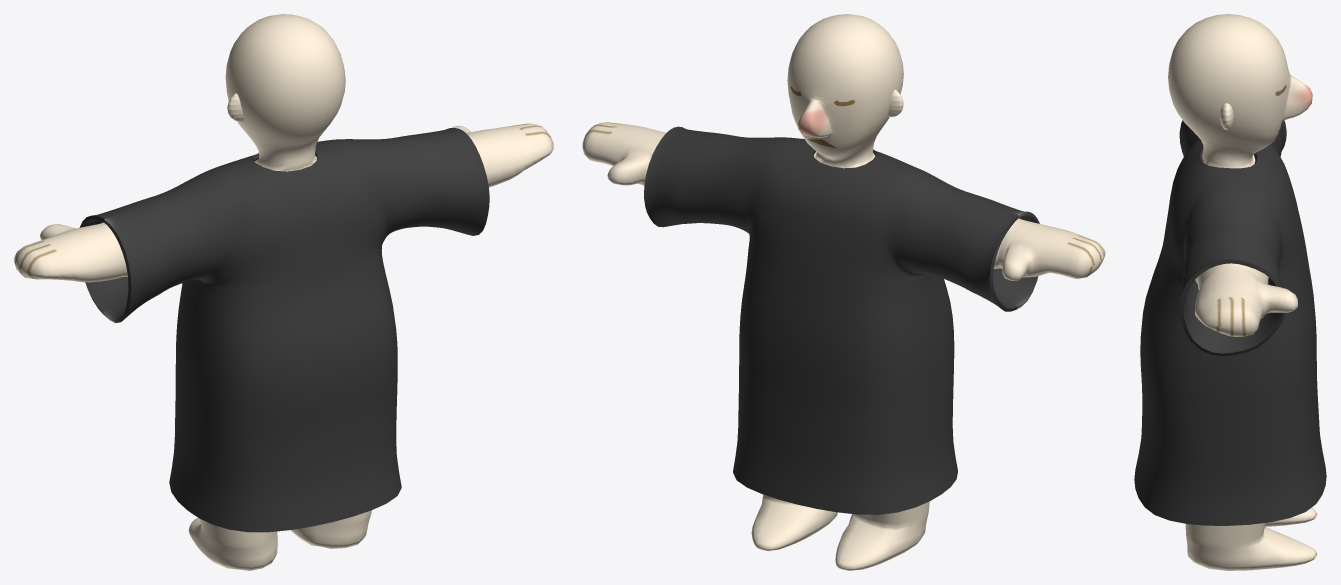
File: person_base_v1.fbx
3 renders of one model, left to right at view 1: azimuth 30°, elevation 25°; view 2: azimuth 150°, elevation 25°; view 3: azimuth 270°, elevation 25°, orthographic. The views are drawn at different scales.
Parts seen in each view (by area): view 1: person3; view 2: person3; view 3: person3.
Boxes of the visible parts, box(x1,y1,x2,y2) form: person3: box(14, 14, 553, 570); person3: box(582, 14, 1105, 570); person3: box(1134, 14, 1326, 570).
Bounding box in the file's own units: 2.1 × 1.99 × 0.6688.
Materials: 1 (1 with a texture image).
